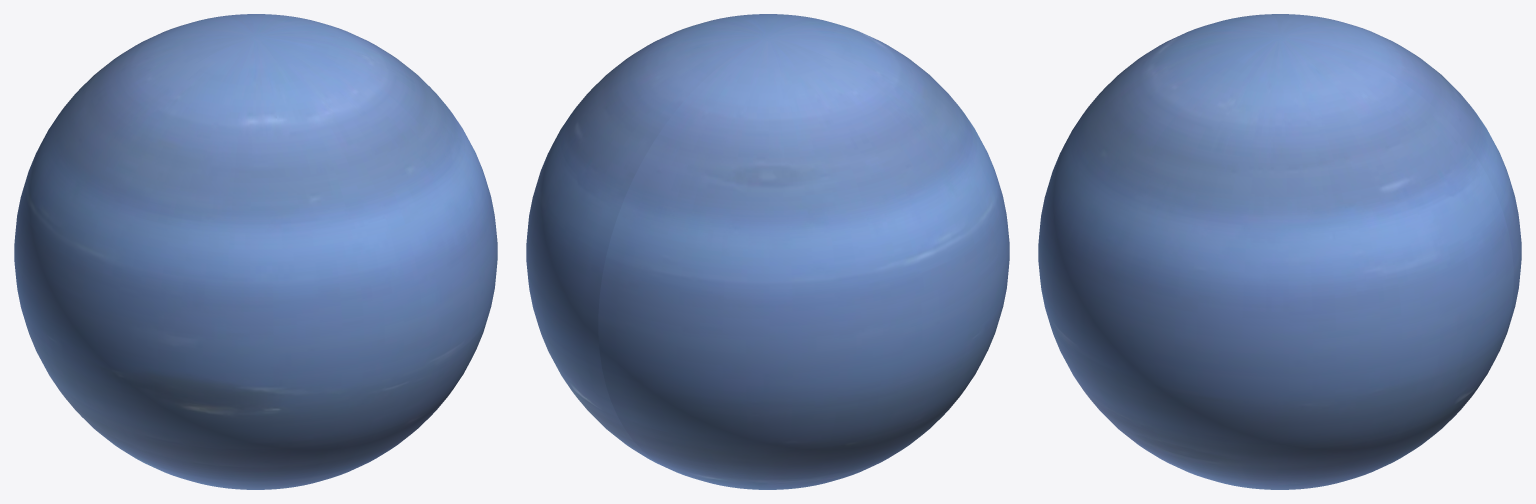
File: neptune-transformed.glb
The picture shows the model from 3 angles, left to right: view 1: azimuth 30°, elevation 25°; view 2: azimuth 150°, elevation 25°; view 3: azimuth 270°, elevation 25°; orthographic projection.
Parts seen in each view (by area): view 1: Neptune; view 2: Neptune; view 3: Neptune.
Part boxes in pixels (x1,y1,x2,y2): Neptune: (14, 14, 497, 489); Neptune: (526, 14, 1009, 489); Neptune: (1038, 14, 1521, 489).
Size of the model in its own units: 1000 by 983 by 1000.
1 material, 1 textured.
